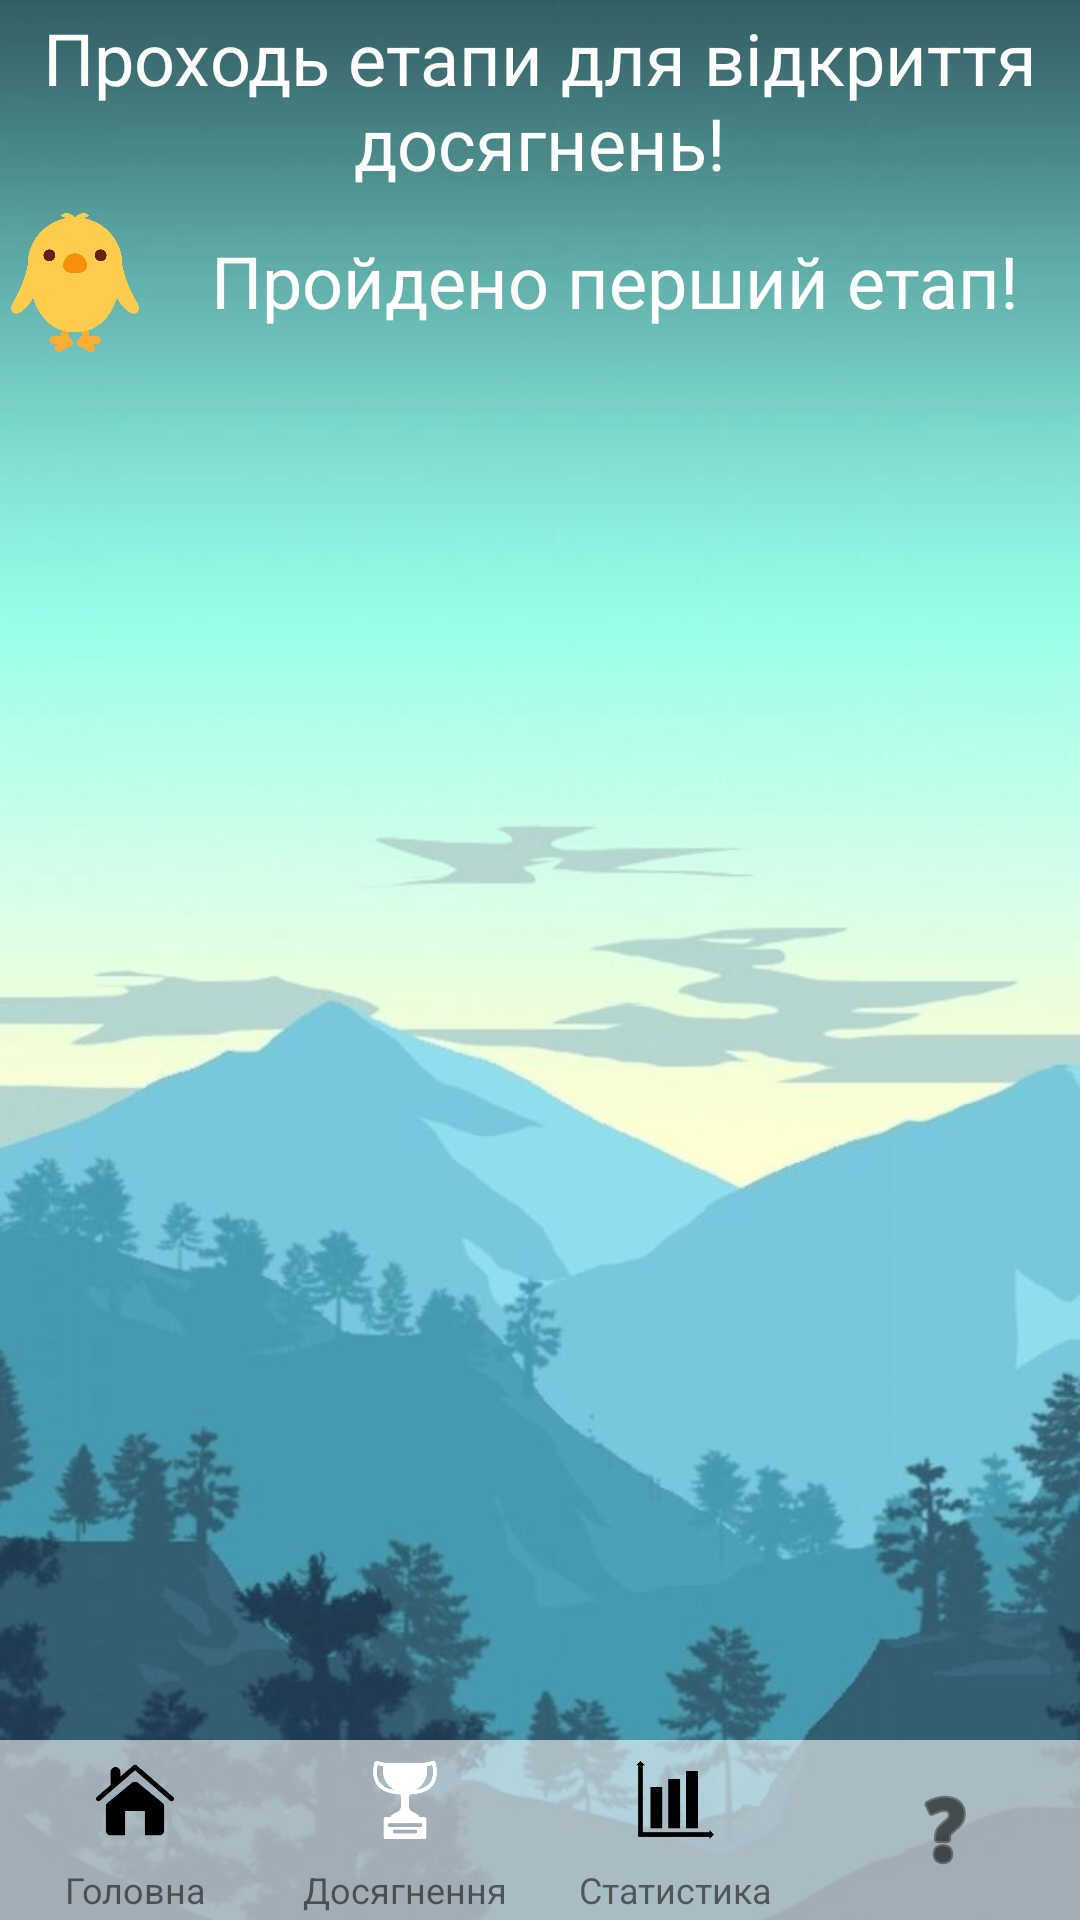

Icon click points for this 1080x1920 phone screenshot, format (x,y):
help: (945,1830)
kubok: (419,1794)
